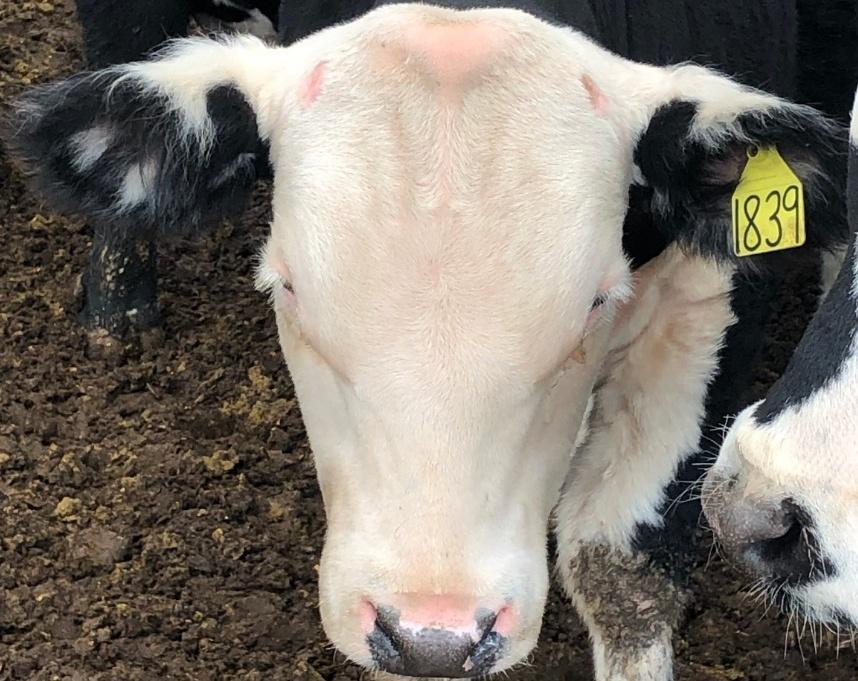muzzles: (314, 569, 554, 681)
